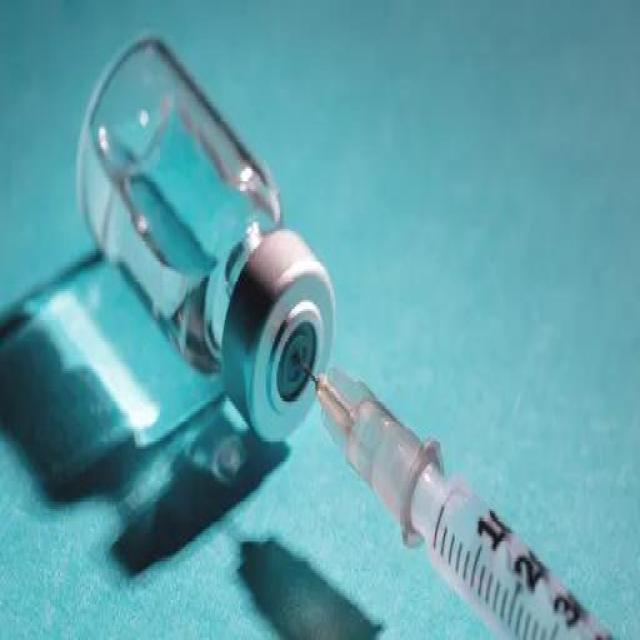B3: (71, 18, 350, 478)
